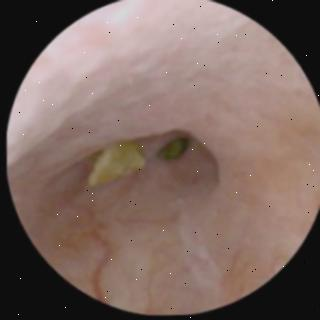stone: (86, 142, 142, 185)
tissue: (8, 0, 320, 311)
